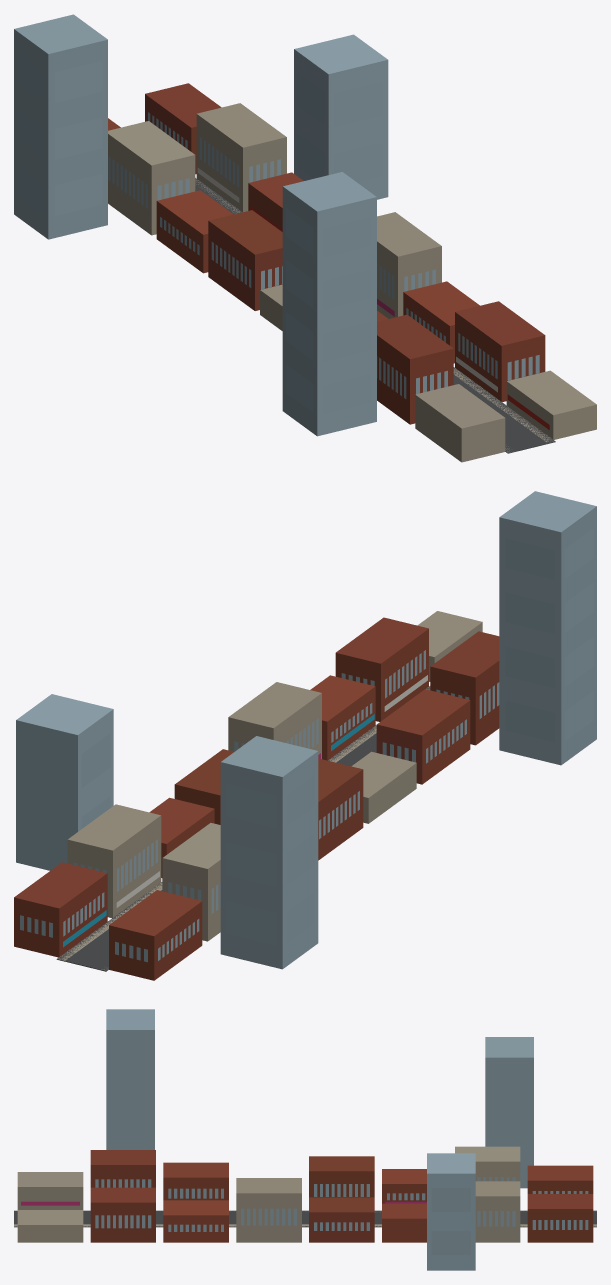
The picture shows the model from 3 angles, top to bottom: view 1: azimuth 30°, elevation 25°; view 2: azimuth 150°, elevation 25°; view 3: azimuth 270°, elevation 25°; orthographic projection. The views are drawn at different scales.
Parts seen in each view (by area): view 1: flushing-main-street-lod2; view 2: flushing-main-street-lod2; view 3: flushing-main-street-lod2.
Boxes of the visible parts, box(x1,y1,x2,y2) form: flushing-main-street-lod2: box(14, 14, 596, 462); flushing-main-street-lod2: box(14, 491, 596, 980); flushing-main-street-lod2: box(14, 1009, 596, 1270).
Bounding box in the file's own units: 150 × 108 × 360.
